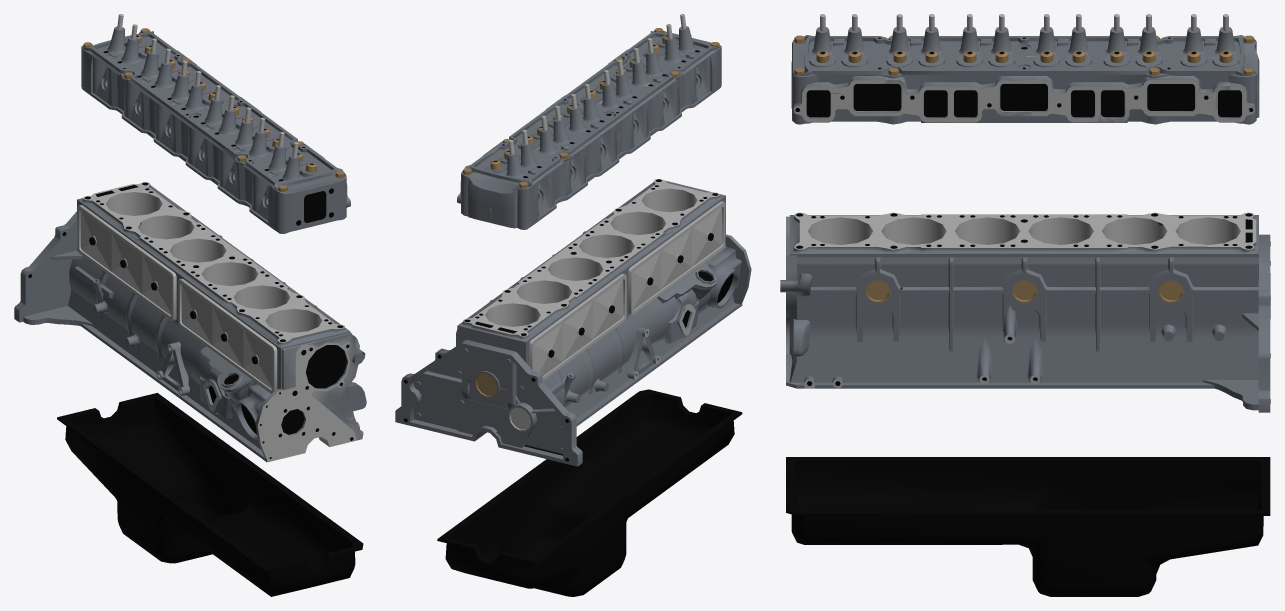
Rendered from tcc-fundamentos-basico.glb.
The picture shows the model from 3 angles, left to right: view 1: azimuth 30°, elevation 25°; view 2: azimuth 150°, elevation 25°; view 3: azimuth 270°, elevation 25°; orthographic projection. The views are drawn at different scales.
Parts seen in each view (by area): view 1: bloco, carter, cabecote; view 2: bloco, carter, cabecote; view 3: bloco, carter, cabecote.
Part boxes in pixels (left/top/right/bottom): bloco: left=14, top=182, right=366, bottom=462; carter: left=57, top=393, right=363, bottom=596; cabecote: left=81, top=14, right=350, bottom=233; bloco: left=395, top=179, right=751, bottom=466; carter: left=437, top=389, right=742, bottom=596; cabecote: left=457, top=14, right=721, bottom=229; bloco: left=780, top=212, right=1270, bottom=412; carter: left=786, top=457, right=1270, bottom=596; cabecote: left=791, top=14, right=1259, bottom=124.
Bounding box in the file's own units: 0.3583 × 0.8969 × 0.7112.
2 materials, 2 textured.
